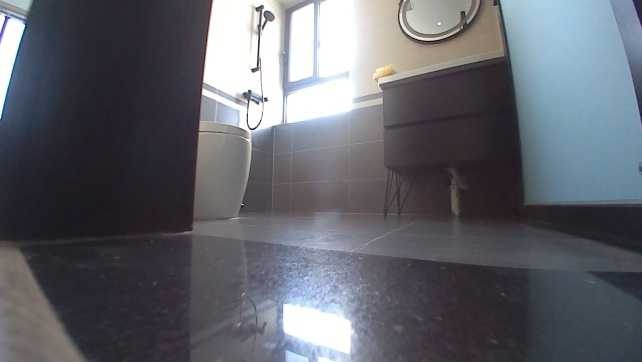toilet: (190, 113, 260, 222)
washstand: (373, 56, 520, 216)
